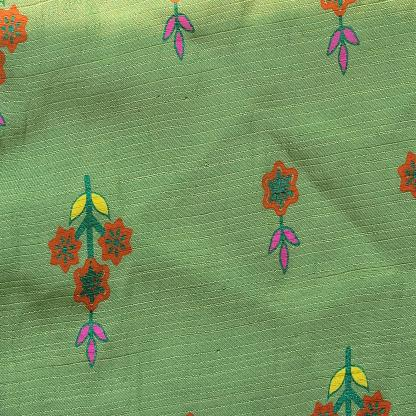spot: (136, 107, 142, 114)
